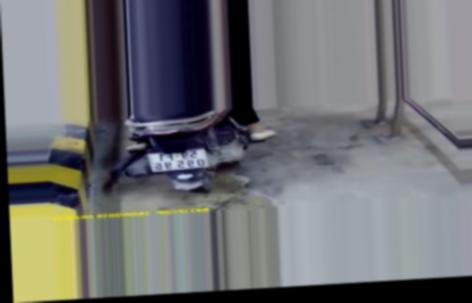License_Plate: (149, 143, 210, 179)
